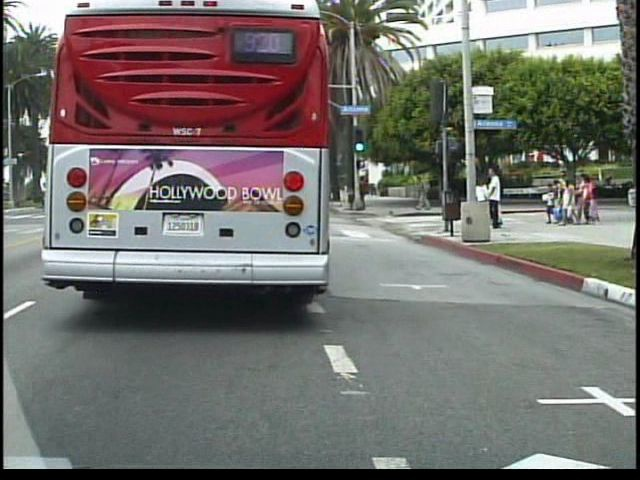person: (492, 164, 509, 234), (472, 173, 494, 225), (358, 174, 378, 214), (415, 172, 433, 214)
